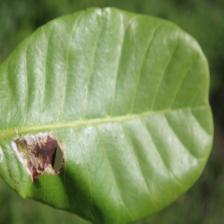leaf miner: (8, 116, 73, 197)
